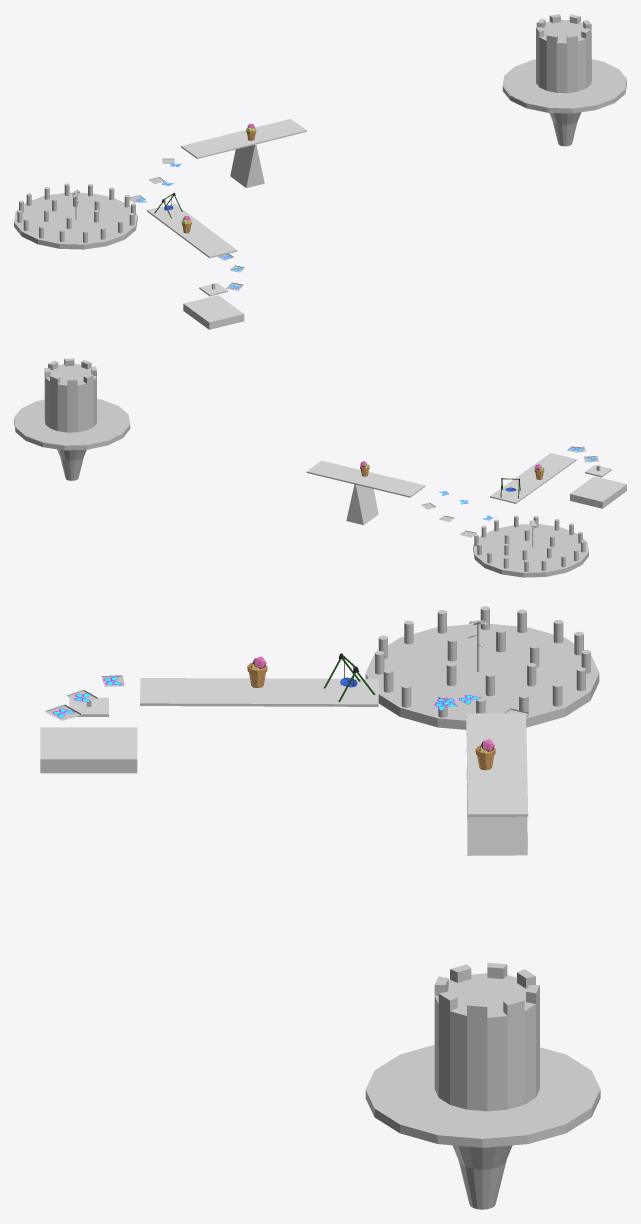
The model's file is Demo_level_heaven_sword.glb.
3 renders of one model, top to bottom at view 1: azimuth 30°, elevation 25°; view 2: azimuth 150°, elevation 25°; view 3: azimuth 270°, elevation 25°, orthographic. The views are drawn at different scales.
Parts seen in each view (by area): view 1: Cylinder.024, Cylinder, Cylinder.025, Seesaw_Bridge, Bridge, Colision_ PlayerSpawn.002, base, Colision_arena; view 2: Cylinder, Cylinder.025, Cylinder.024, Seesaw_Bridge, Bridge, Colision_ PlayerSpawn.002, base, Colision_arena.001; view 3: Cylinder.024, Cylinder, Cylinder.025, Bridge, Seesaw_Bridge, Colision_ PlayerSpawn.002, base.
Boxes of the visible parts, bbox=[...] form: Cylinder.024: bbox=[503, 59, 626, 146]; Cylinder: bbox=[14, 192, 137, 244]; Cylinder.025: bbox=[536, 14, 591, 93]; Seesaw_Bridge: bbox=[181, 119, 306, 158]; Bridge: bbox=[147, 203, 237, 258]; Colision_ PlayerSpawn.002: bbox=[183, 295, 244, 329]; base: bbox=[230, 144, 264, 187]; Colision_arena: bbox=[14, 222, 135, 249]; Cylinder: bbox=[473, 524, 588, 577]; Cylinder.025: bbox=[44, 358, 96, 432]; Cylinder.024: bbox=[14, 399, 129, 480]; Seesaw_Bridge: bbox=[306, 460, 425, 497]; Bridge: bbox=[490, 453, 576, 503]; Colision_ PlayerSpawn.002: bbox=[570, 476, 626, 508]; base: bbox=[346, 484, 378, 525]; Colision_arena.001: bbox=[15, 416, 130, 450]; Cylinder.024: bbox=[365, 1045, 599, 1209]; Cylinder: bbox=[365, 624, 599, 729]; Cylinder.025: bbox=[434, 962, 539, 1111]; Bridge: bbox=[140, 678, 379, 706]; Seesaw_Bridge: bbox=[466, 713, 528, 816]; Colision_ PlayerSpawn.002: bbox=[40, 727, 137, 773]; base: bbox=[466, 769, 527, 855].
Size of what is drawn, in the model's own units: 264 by 49.41 by 114.
